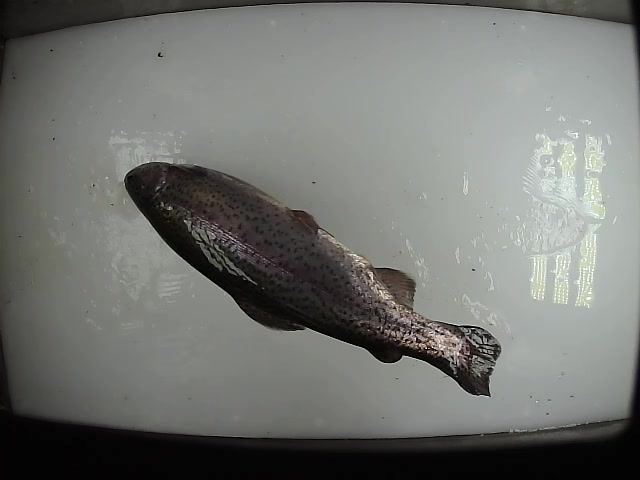Fish: (124, 161, 501, 397)
